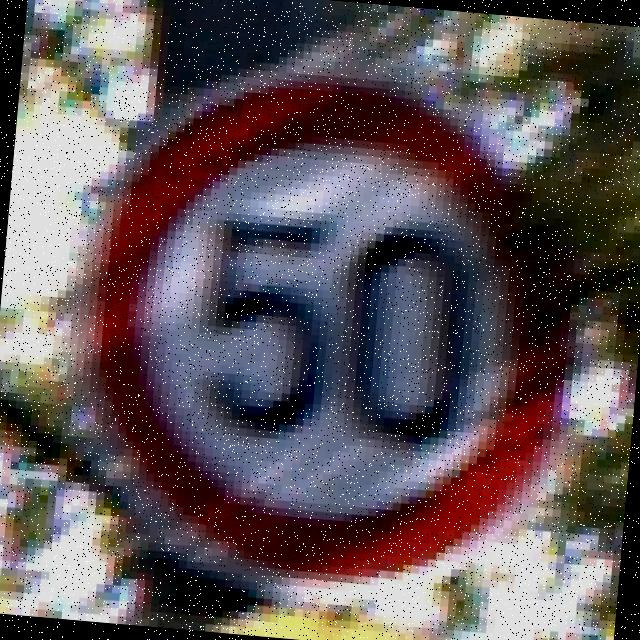Ograniczenie predkosci do 50: (78, 65, 590, 595)
